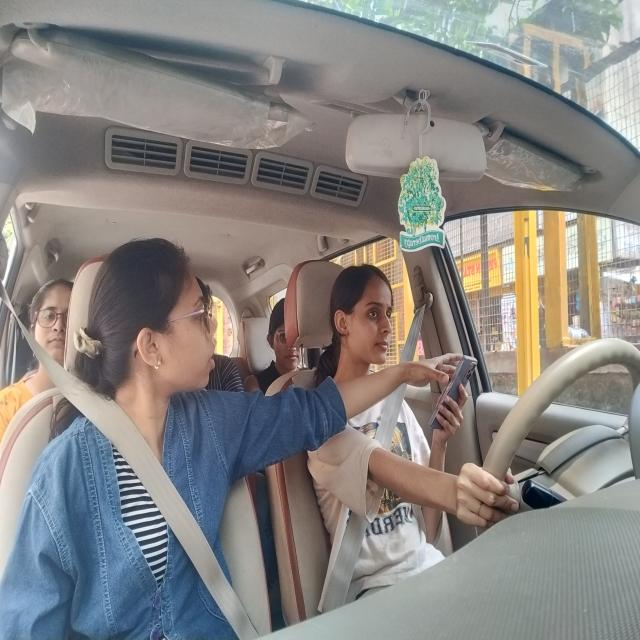mobile: (428, 342, 482, 447)
person: (89, 234, 221, 418), (331, 253, 405, 391), (24, 266, 74, 394), (248, 288, 306, 379)
